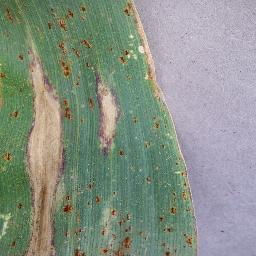Corn_Blight: (87, 74, 123, 159), (173, 158, 200, 254), (27, 77, 73, 128), (24, 129, 68, 181), (29, 182, 61, 235), (100, 209, 136, 256), (48, 5, 91, 33), (58, 41, 94, 74), (143, 44, 163, 101), (9, 235, 59, 255), (123, 1, 146, 44), (106, 45, 143, 64), (19, 50, 44, 68), (58, 191, 76, 215), (157, 207, 173, 234), (154, 116, 174, 131), (65, 226, 86, 239), (74, 74, 83, 101), (156, 243, 172, 256), (3, 6, 15, 23), (31, 67, 50, 75), (73, 246, 88, 256), (9, 109, 20, 121), (139, 230, 151, 241), (156, 139, 167, 151), (3, 149, 12, 162), (0, 67, 8, 81), (93, 196, 107, 204), (142, 139, 151, 150), (14, 201, 24, 210), (87, 180, 96, 189), (143, 176, 153, 184), (132, 117, 141, 125)
